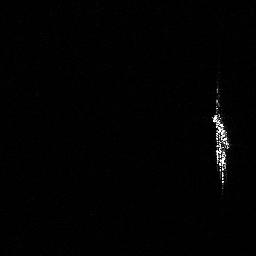ship: (208, 83, 235, 193)
